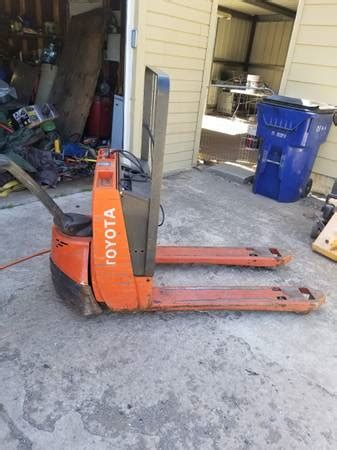Pallet Jack: (4, 65, 325, 318)
